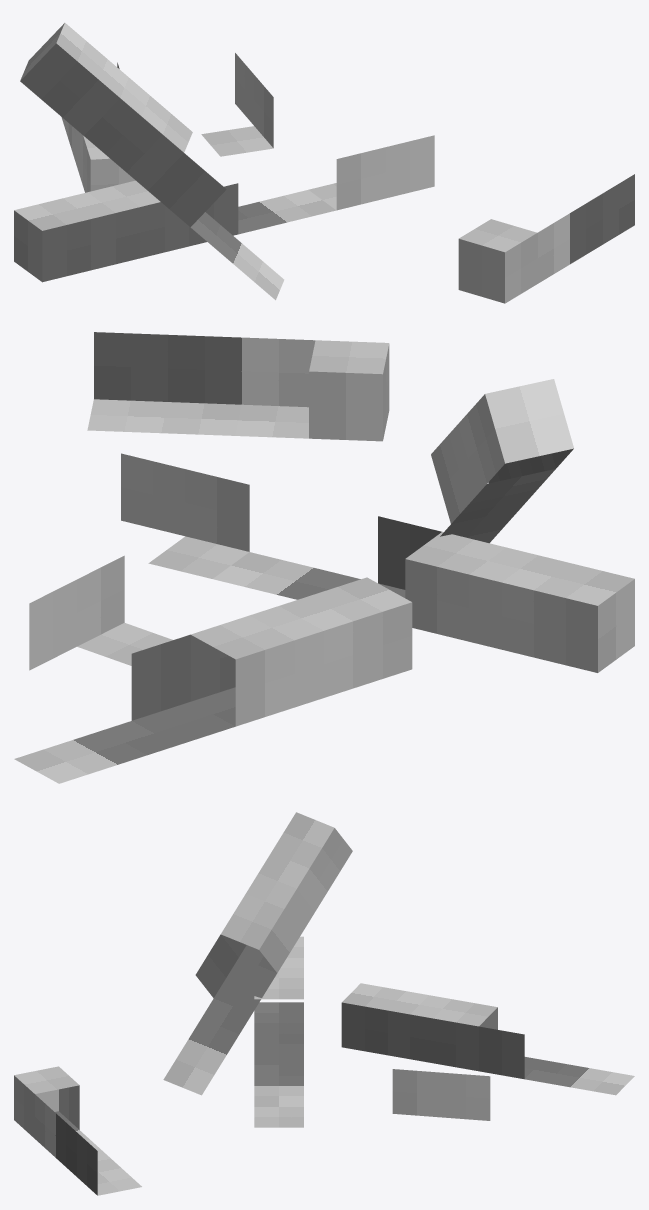
Rendered from twigs.obj.
The picture shows the model from 3 angles, top to bottom: view 1: azimuth 30°, elevation 25°; view 2: azimuth 150°, elevation 25°; view 3: azimuth 270°, elevation 25°; orthographic projection. The views are drawn at different scales.
Parts seen in each view (by area): view 1: cube; view 2: cube; view 3: cube.
Part boxes in pixels (x1,y1,x2,y2): cube: (14,23,634,303); cube: (14,332,634,783); cube: (14,812,634,1195).
Size of the model in its own units: 0.6409 by 0.2915 by 0.7845.
